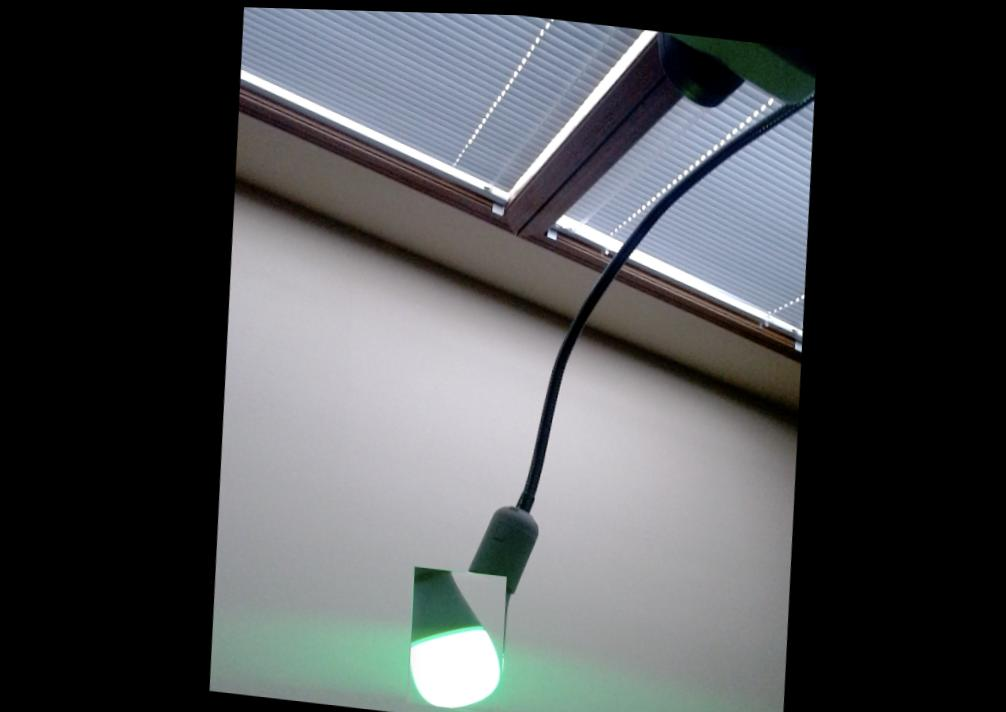TubeLight: (397, 562, 506, 710)
